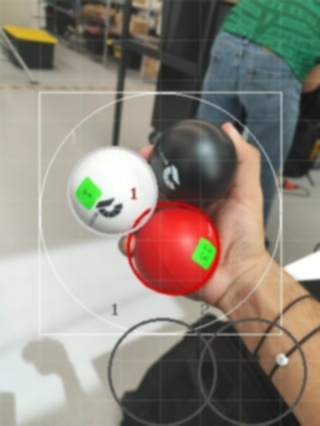Pelota blanca: (66, 145, 158, 238)
Pelota negra: (106, 316, 313, 425), (148, 118, 238, 203)
Pelota roja: (119, 198, 222, 296)
